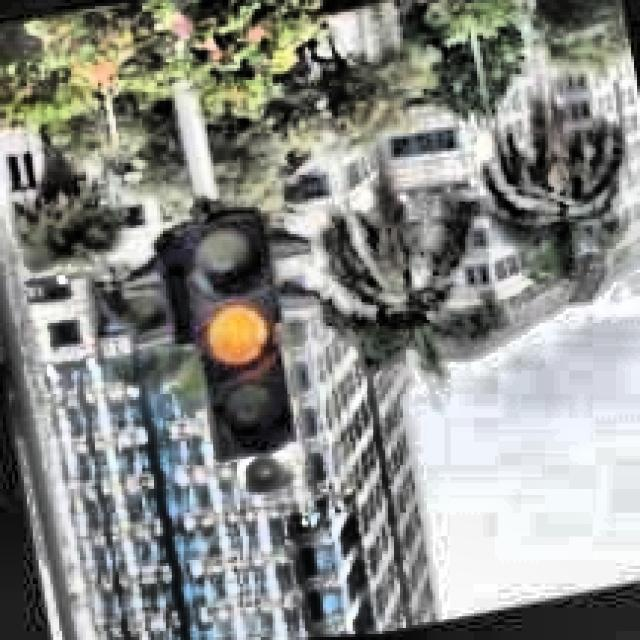yellow: (170, 213, 292, 468)
